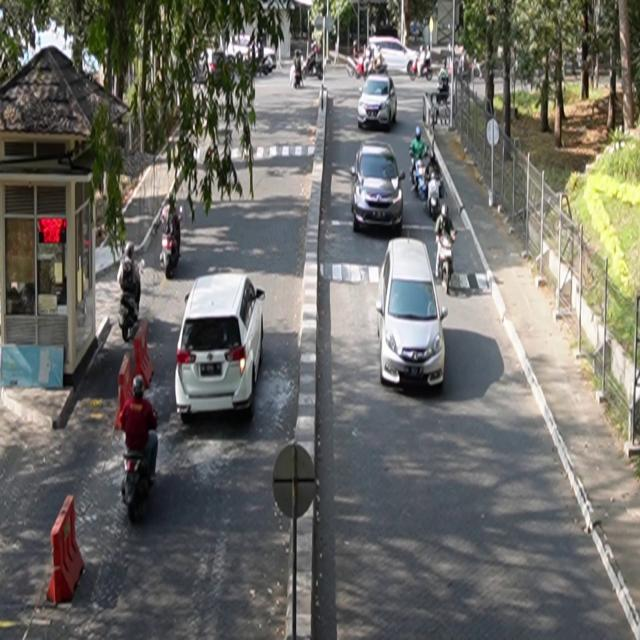car: (176, 273, 266, 424), (377, 238, 449, 389), (351, 140, 406, 234), (358, 75, 398, 132)
